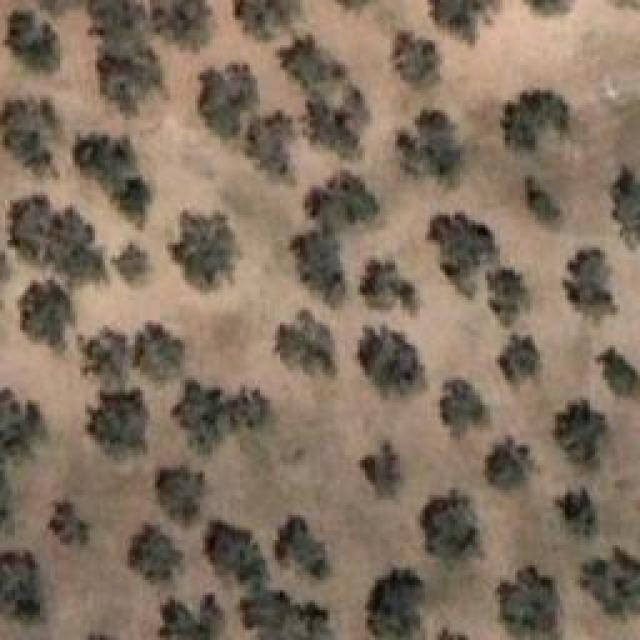Tree: (278, 35, 369, 157), (10, 195, 105, 282), (75, 137, 153, 227), (172, 383, 270, 454), (428, 212, 498, 296), (240, 582, 338, 640), (170, 213, 235, 291), (97, 45, 168, 115), (398, 110, 463, 185), (358, 327, 424, 397), (305, 170, 379, 230), (200, 65, 259, 138), (205, 525, 268, 592), (290, 230, 345, 306), (420, 490, 478, 560), (367, 570, 425, 640), (580, 548, 640, 615), (498, 568, 558, 635), (505, 90, 570, 150), (275, 313, 336, 376), (0, 100, 54, 171), (88, 390, 148, 453), (563, 250, 617, 320), (20, 280, 75, 348), (555, 400, 608, 465), (275, 515, 329, 578), (128, 525, 183, 583), (5, 12, 58, 72), (0, 388, 46, 456), (83, 328, 132, 391), (133, 323, 186, 381), (360, 260, 418, 313), (248, 110, 294, 175), (440, 380, 490, 437), (430, 0, 496, 43), (163, 595, 226, 640), (88, 0, 152, 44), (152, 0, 209, 49), (0, 553, 41, 619), (235, 0, 300, 39), (360, 443, 404, 499), (485, 438, 531, 491), (160, 470, 204, 523), (395, 33, 439, 86), (612, 165, 640, 248), (488, 268, 528, 326), (597, 347, 640, 394), (498, 335, 541, 382), (555, 493, 596, 537), (50, 503, 89, 546), (112, 243, 150, 285), (528, 178, 561, 222)
